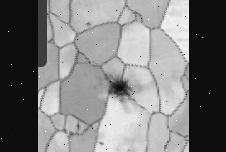good_void: (106, 75, 134, 103), (96, 137, 106, 149), (83, 21, 92, 27)
